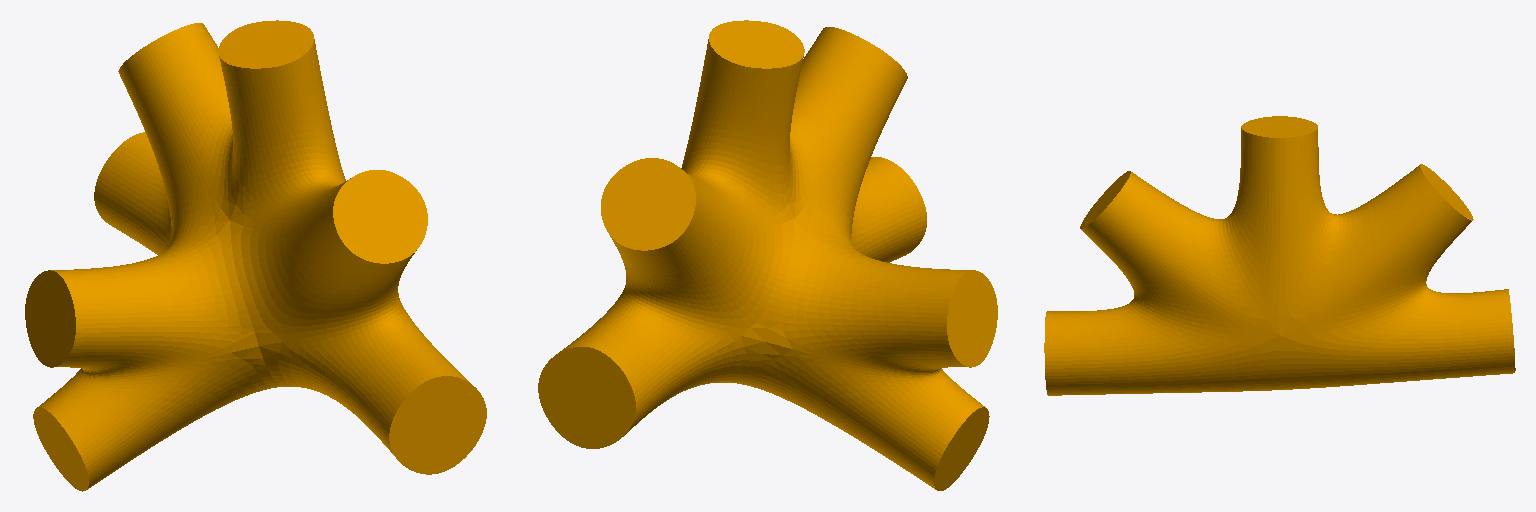
URDF robot description (object):
<robot name="object">
  <link name="object">
    <visual>
      <origin xyz="0 0 0"/>
      <geometry>
        <mesh filename="visual.obj" scale="1 1 1"/>
      </geometry>
    </visual>
    <collision>
      <origin xyz="0 0 0"/>
      <geometry>
        <mesh filename="collision.obj" scale="1 1 1"/>
      </geometry>
    </collision>
    <inertial>
      <mass value="0.05"/>
      <inertia ixx="0.00024091973639200277" iyy="0.00013924957697922908" izz="0.00023045789715209146" ixy="1.1141143221221073e-06" ixz="-2.072420595535886e-05" iyz="-5.694707639411751e-06"/>
    </inertial>
  </link>
</robot>

--- Render facts (derived) ---
3 views of the same robot in one strip: view 1: azimuth 30°, elevation 25°; view 2: azimuth 150°, elevation 25°; view 3: azimuth 270°, elevation 25° (orthographic).
Model object with 1 links and 0 joints (none), rooted at object, posed every joint at zero.
Links seen in each view (by area): view 1: object; view 2: object; view 3: object.
Boxes of the visible links, x1,y1,x2,y2 form: object: (25,20,486,491); object: (538,20,997,490); object: (1044,116,1515,395).
Bounding box of the posed robot: 0.1677 × 0.2831 × 0.2096 m (x, y, z).
Meshes: 1 distinct files referenced, 1 mesh visuals loaded (1 OBJ).
